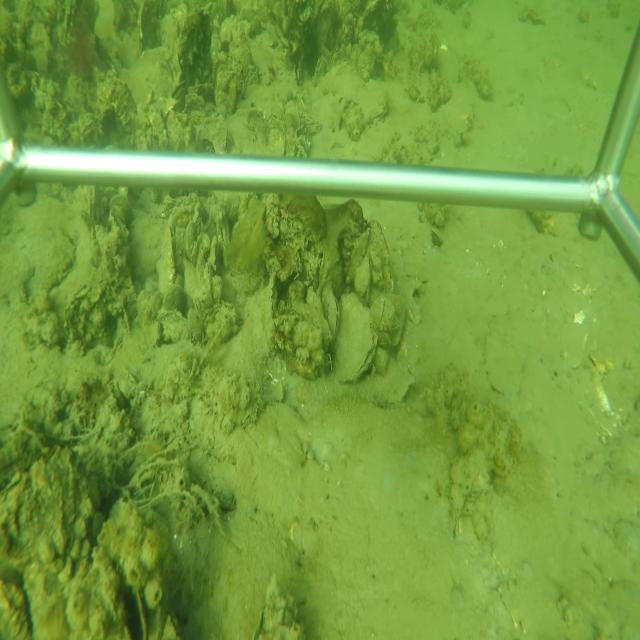Oyster-Closed: (336, 290, 379, 384), (368, 215, 395, 293), (158, 215, 179, 308), (264, 273, 279, 351)
